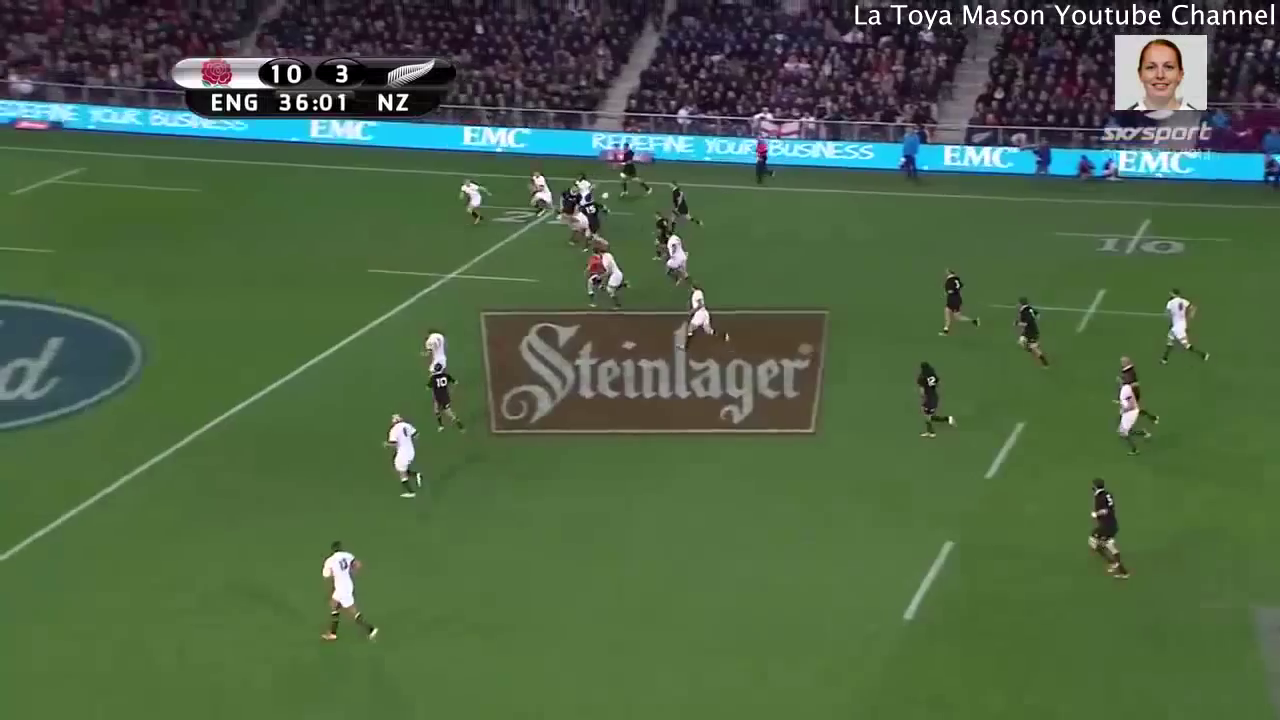10_metre: (977, 277, 1186, 338), (1049, 213, 1240, 268)
ball: (599, 188, 613, 204)
player: (311, 537, 390, 656), (1151, 283, 1217, 374), (374, 408, 429, 508), (1081, 474, 1130, 585), (910, 363, 965, 448), (674, 279, 733, 357), (420, 355, 470, 443), (934, 262, 985, 344), (1112, 353, 1167, 428), (1105, 368, 1149, 460), (1009, 293, 1054, 375), (612, 137, 657, 206), (596, 246, 634, 317), (664, 178, 709, 237), (576, 191, 613, 253), (659, 230, 698, 288), (457, 174, 493, 236), (644, 209, 681, 268), (518, 168, 557, 222), (418, 321, 450, 385), (581, 247, 609, 307), (555, 185, 584, 229), (569, 170, 594, 202)
